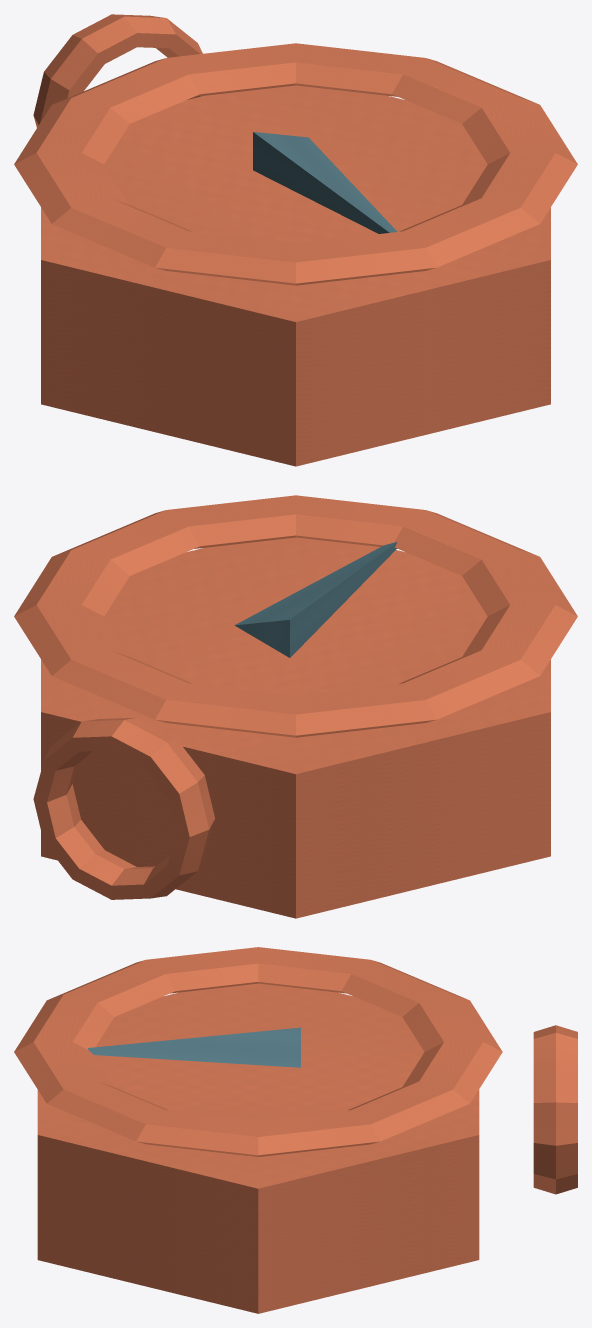
The model's file is atlas100-s043-a05.lod1.glb.
3 views of the same model, one above another, from view 1: azimuth 30°, elevation 25°; view 2: azimuth 150°, elevation 25°; view 3: azimuth 270°, elevation 25° (orthographic). The views are drawn at different scales.
Parts seen in each view (by area): view 1: atlas100-s043-a05:part-000, atlas100-s043-a05:part-003, atlas100-s043-a05:part-004, atlas100-s043-a05:part-002; view 2: atlas100-s043-a05:part-000, atlas100-s043-a05:part-003, atlas100-s043-a05:part-004, atlas100-s043-a05:part-002; view 3: atlas100-s043-a05:part-000, atlas100-s043-a05:part-003, atlas100-s043-a05:part-004, atlas100-s043-a05:part-002.
Boxes of the visible parts, x1,y1,x2,y2 form: atlas100-s043-a05:part-000: [41, 85, 550, 466]; atlas100-s043-a05:part-003: [14, 43, 577, 285]; atlas100-s043-a05:part-004: [33, 14, 202, 127]; atlas100-s043-a05:part-002: [253, 132, 397, 233]; atlas100-s043-a05:part-000: [41, 537, 550, 918]; atlas100-s043-a05:part-003: [14, 495, 577, 737]; atlas100-s043-a05:part-004: [33, 717, 215, 899]; atlas100-s043-a05:part-002: [234, 542, 397, 657]; atlas100-s043-a05:part-000: [37, 983, 479, 1313]; atlas100-s043-a05:part-003: [14, 947, 502, 1156]; atlas100-s043-a05:part-004: [533, 1025, 577, 1194]; atlas100-s043-a05:part-002: [88, 1027, 300, 1067].
Size of the model in its own units: 0.5242 by 0.1966 by 0.5796.
2 materials, 2 textured.
